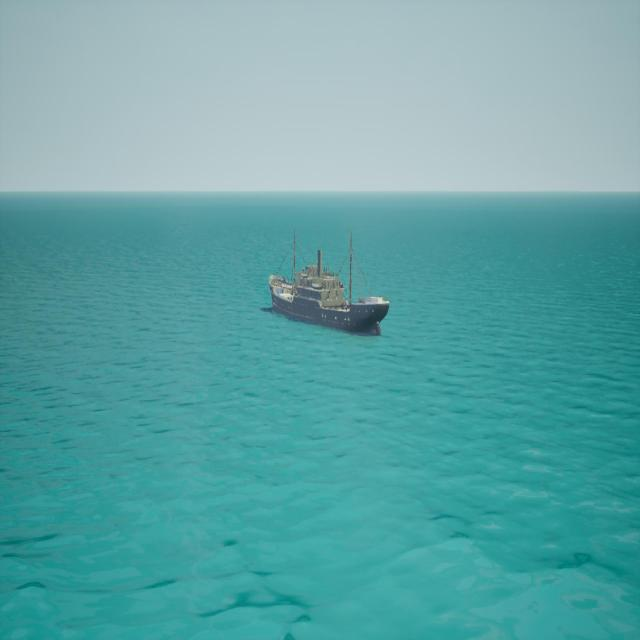fishing ship: (268, 230, 389, 335)
